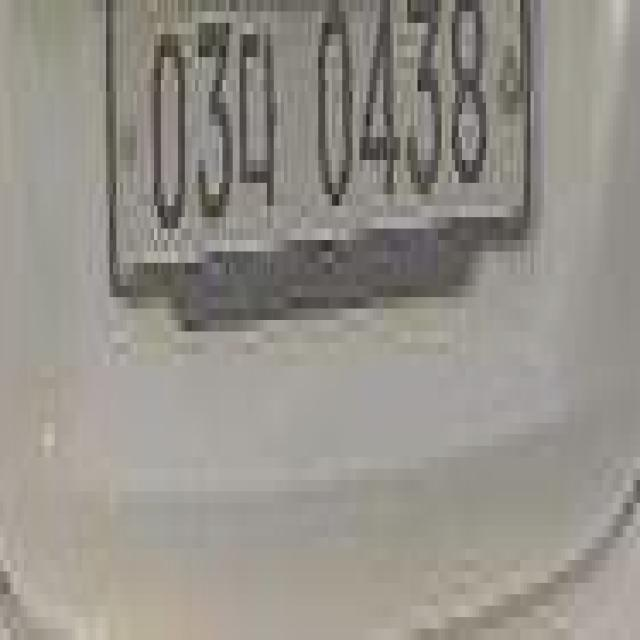illegal_plate: (102, 2, 543, 312)
